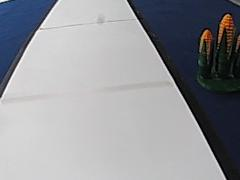corn: (195, 7, 240, 89)
